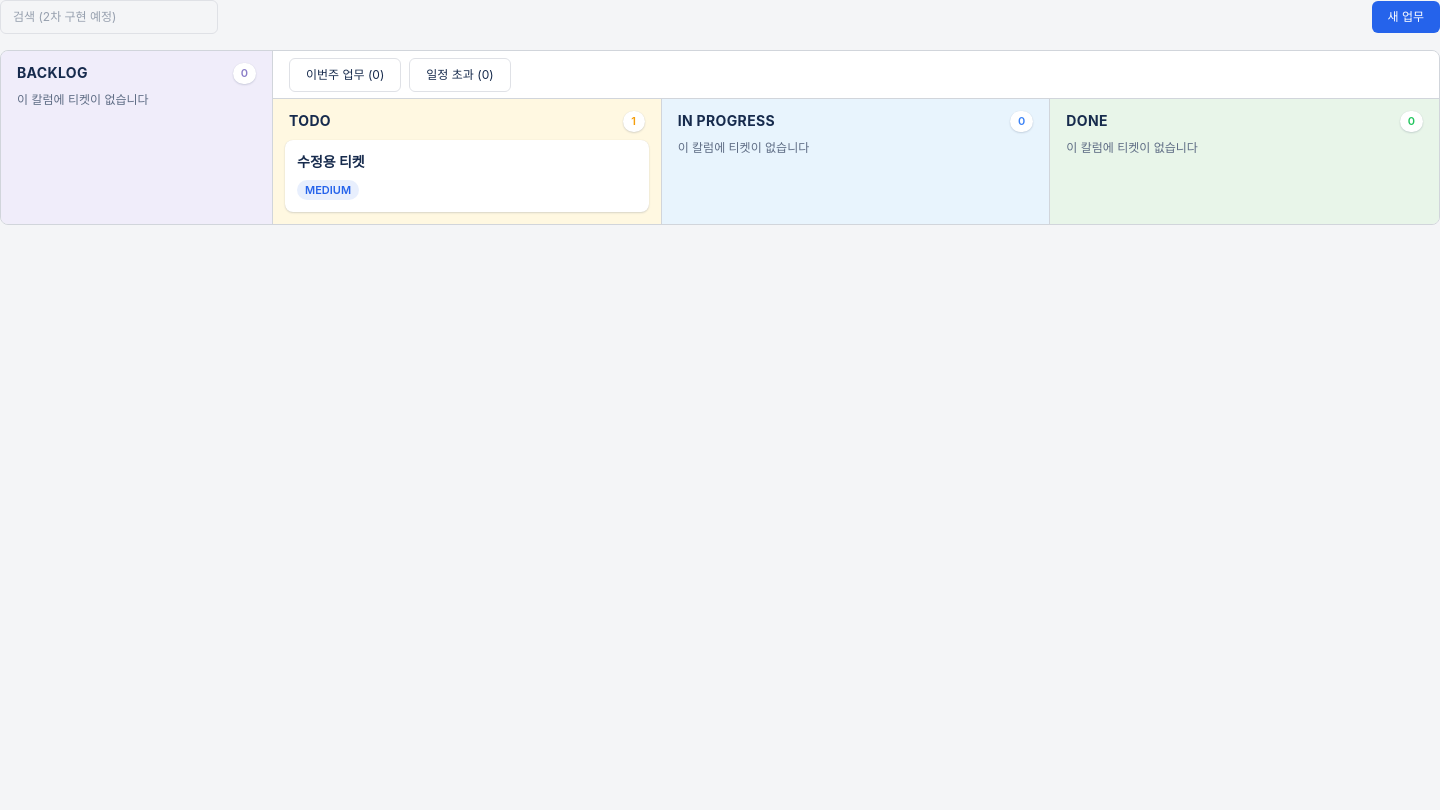
it: BoardContainer › 카드 클릭 시 수정 모드 TicketModal이 열린다
Click the button "수정용 티켓 MEDIUM" at {"x": 331, "y": 161}, box top-left (285, 140), bottom-right (649, 212)
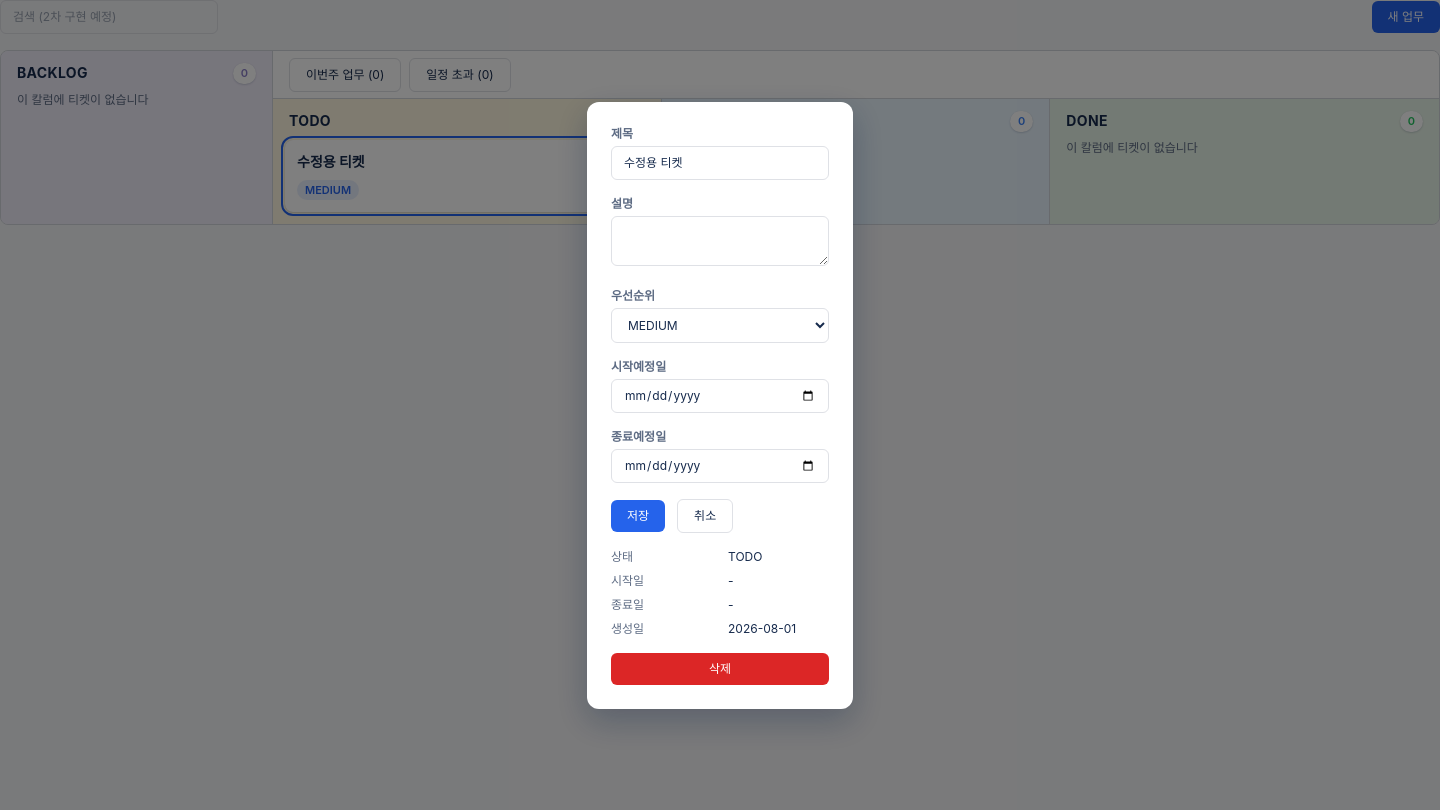
Check: the field labelled "제목" holds "수정용 티켓", box top-left (611, 146), bottom-right (829, 180)
Check: the button "삭제" is shown, box top-left (611, 652), bottom-right (829, 684)
